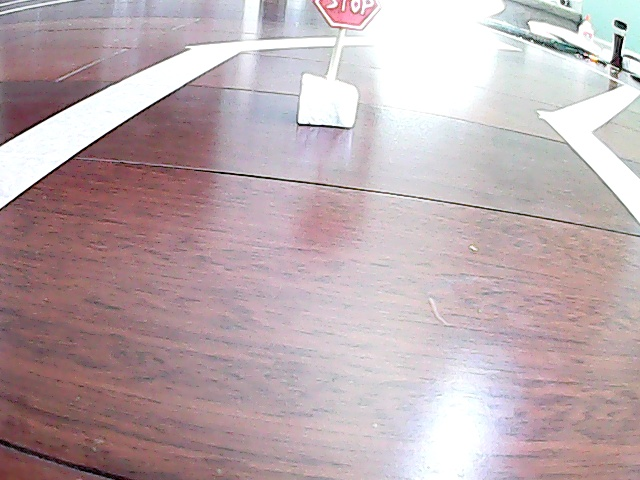stop: (305, 1, 368, 128)
